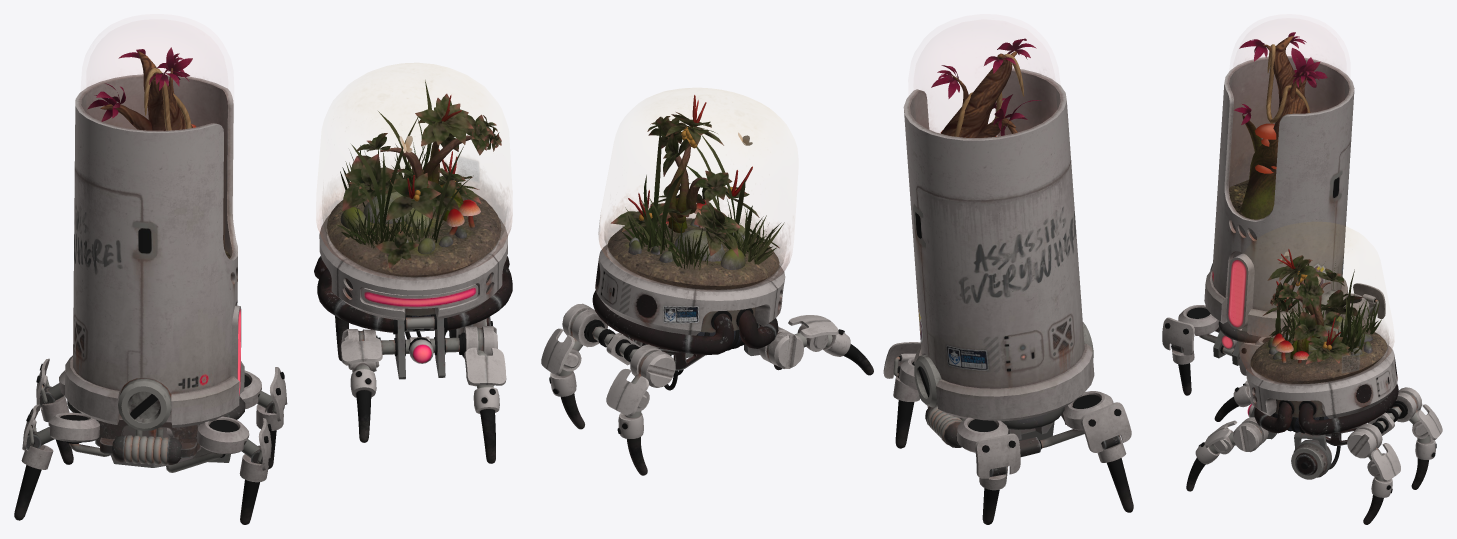
3 renders of one model, left to right at view 1: azimuth 30°, elevation 25°; view 2: azimuth 150°, elevation 25°; view 3: azimuth 270°, elevation 25°, orthographic. The views are drawn at different scales.
Parts seen in each view (by area): view 1: Bot1, Bot2, Glass; view 2: Bot1, Bot2, Glass; view 3: Bot1, Bot2, Glass.
Part boxes in pixels (<box>): Bot1: <box>14,47,287,524</box>; Bot2: <box>314,80,512,463</box>; Glass: <box>84,70,512,280</box>; Bot1: <box>883,38,1133,524</box>; Bot2: <box>541,95,873,475</box>; Glass: <box>598,55,1056,291</box>; Bot1: <box>1162,32,1385,395</box>; Bot2: <box>1186,249,1442,524</box>; Glass: <box>1229,45,1393,385</box>.
Bounding box in the file's own units: 28.97 × 23.9 × 16.69.
Materials: 3 (3 with a texture image).
